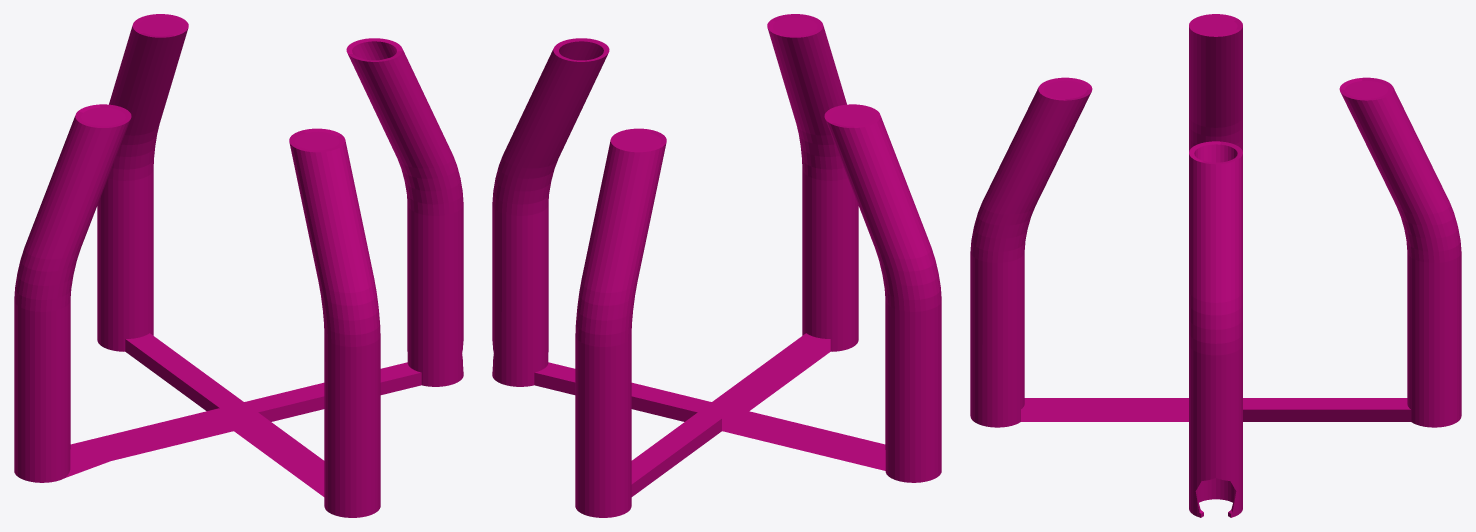
The model's file is Baluminaria-Cordas.fbx.
The picture shows the model from 3 angles, left to right: view 1: azimuth 30°, elevation 25°; view 2: azimuth 150°, elevation 25°; view 3: azimuth 270°, elevation 25°; orthographic projection. The views are drawn at different scales.
Visible parts, largest first — view 1: Cordas; view 2: Cordas; view 3: Cordas.
Part boxes in pixels (bbox=[...]): Cordas: bbox=[14, 14, 463, 517]; Cordas: bbox=[492, 14, 941, 517]; Cordas: bbox=[970, 14, 1461, 517].
Size of the model in its own units: 7249 by 5326 by 7249.
